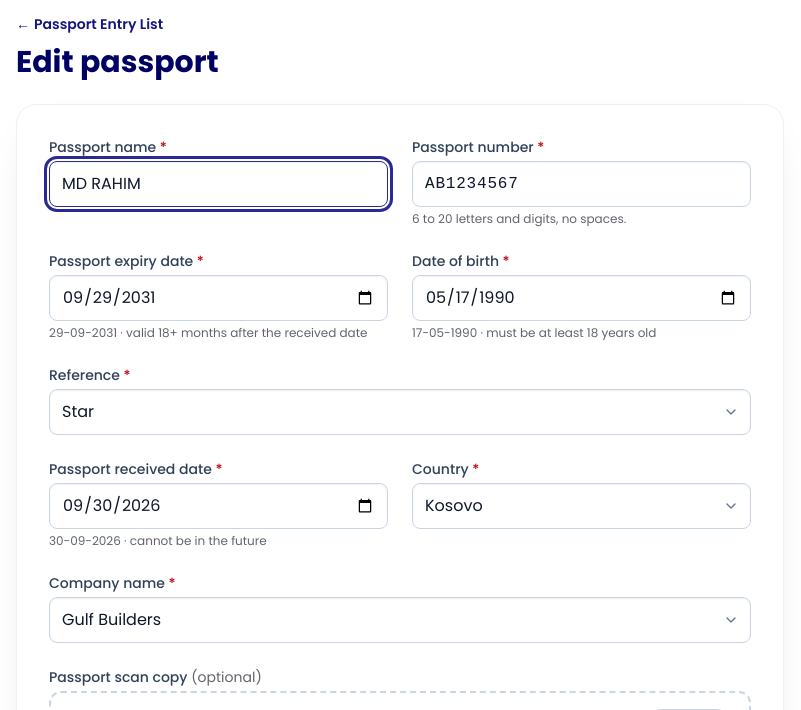
Test case: PassportFormView › edit mode › shows an inactive saved country and keeps it selectable
Click the dropdown labelled "Country *". click: coordinates (582, 506)
box: [412, 483, 751, 529]
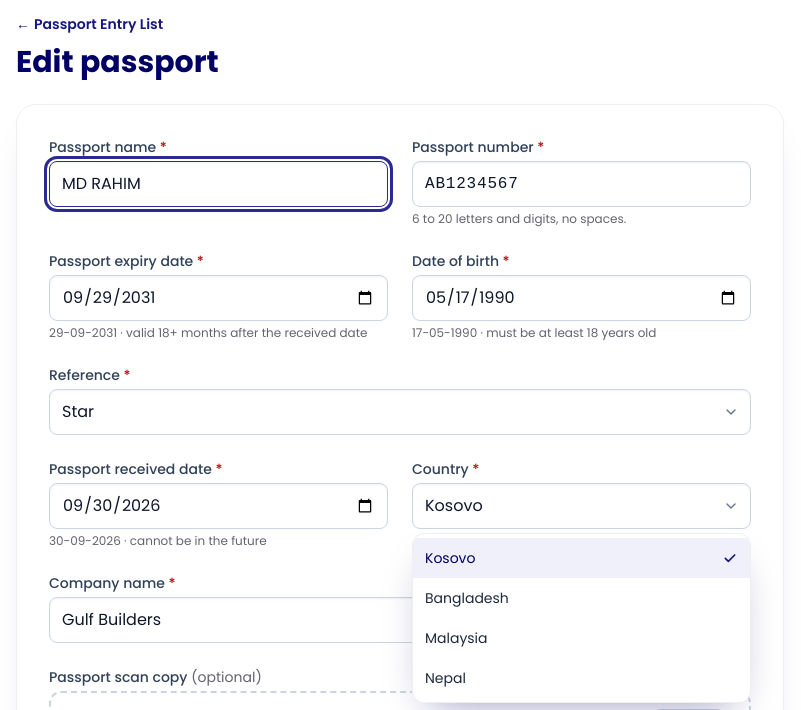
Expected: the text "Kosovo" is shown, [425, 548, 475, 568]
Expected: the text "Bangladesh" is shown, [425, 588, 509, 608]
